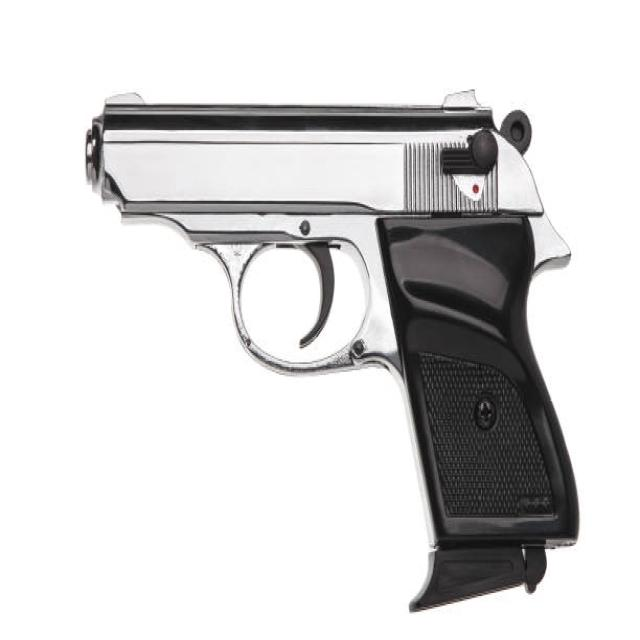pistol: (78, 82, 591, 617)
